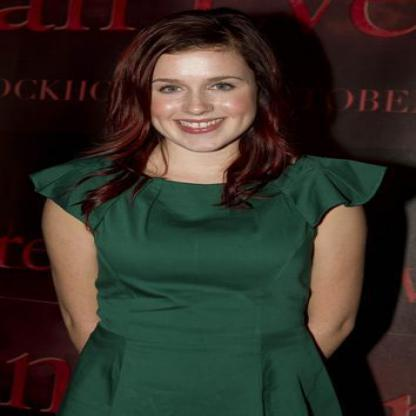long-hair: (78, 150, 314, 190)
